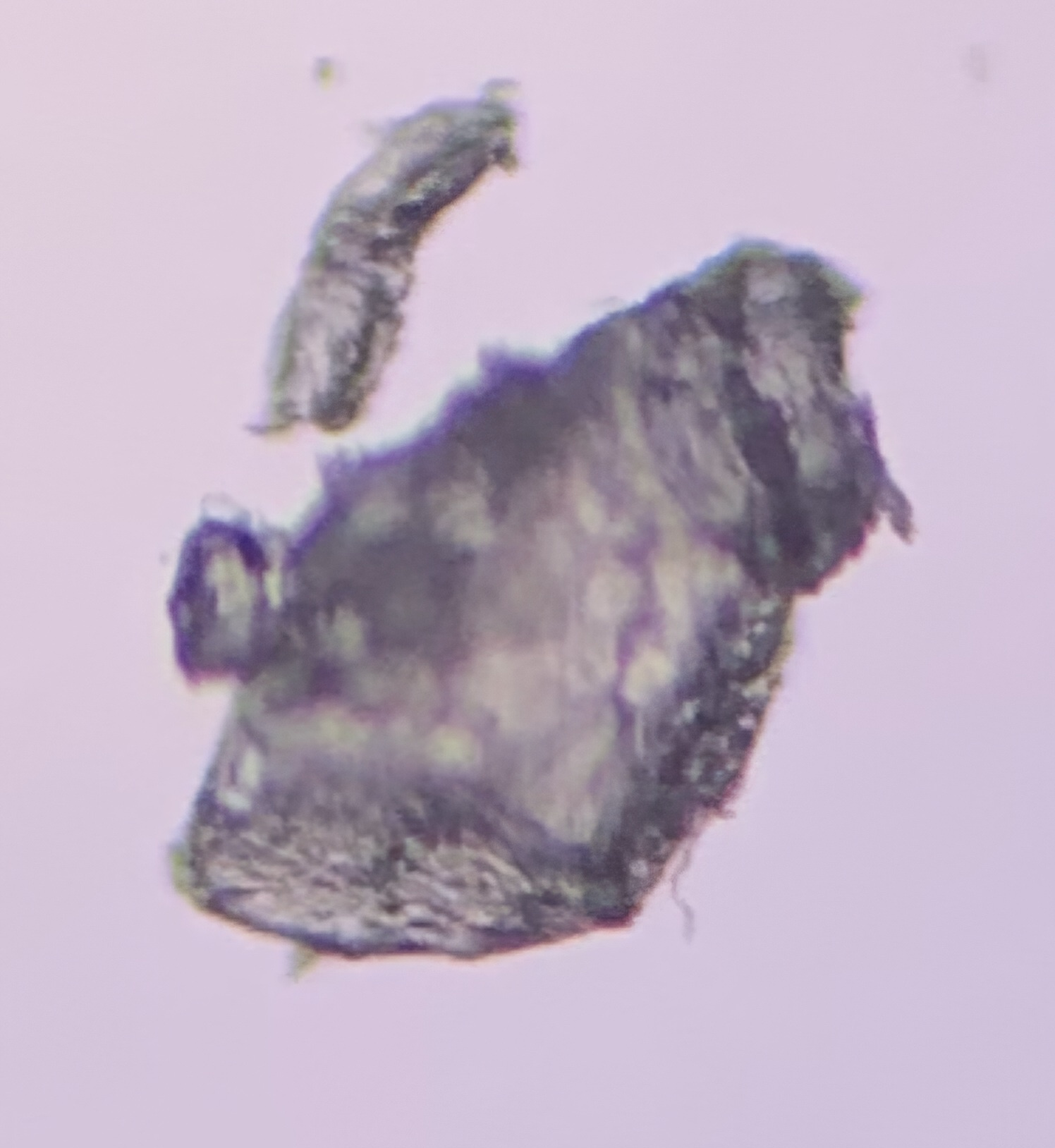microplastic: (165, 231, 917, 963), (243, 69, 524, 435)
